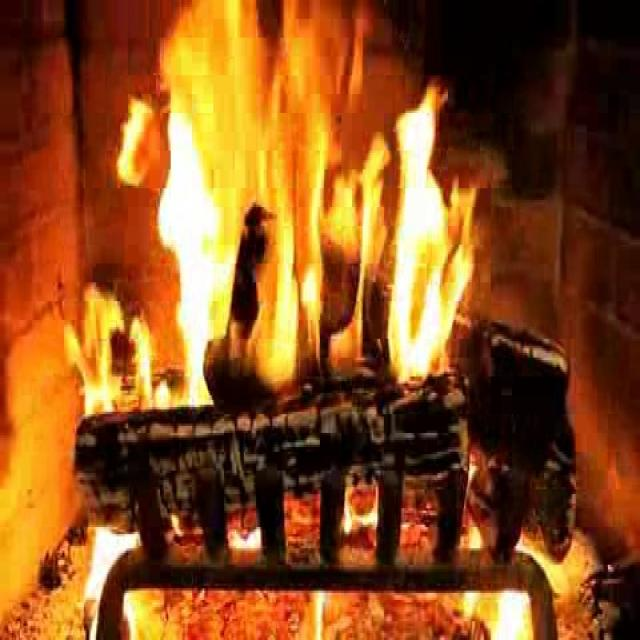fire: (108, 10, 485, 467)
